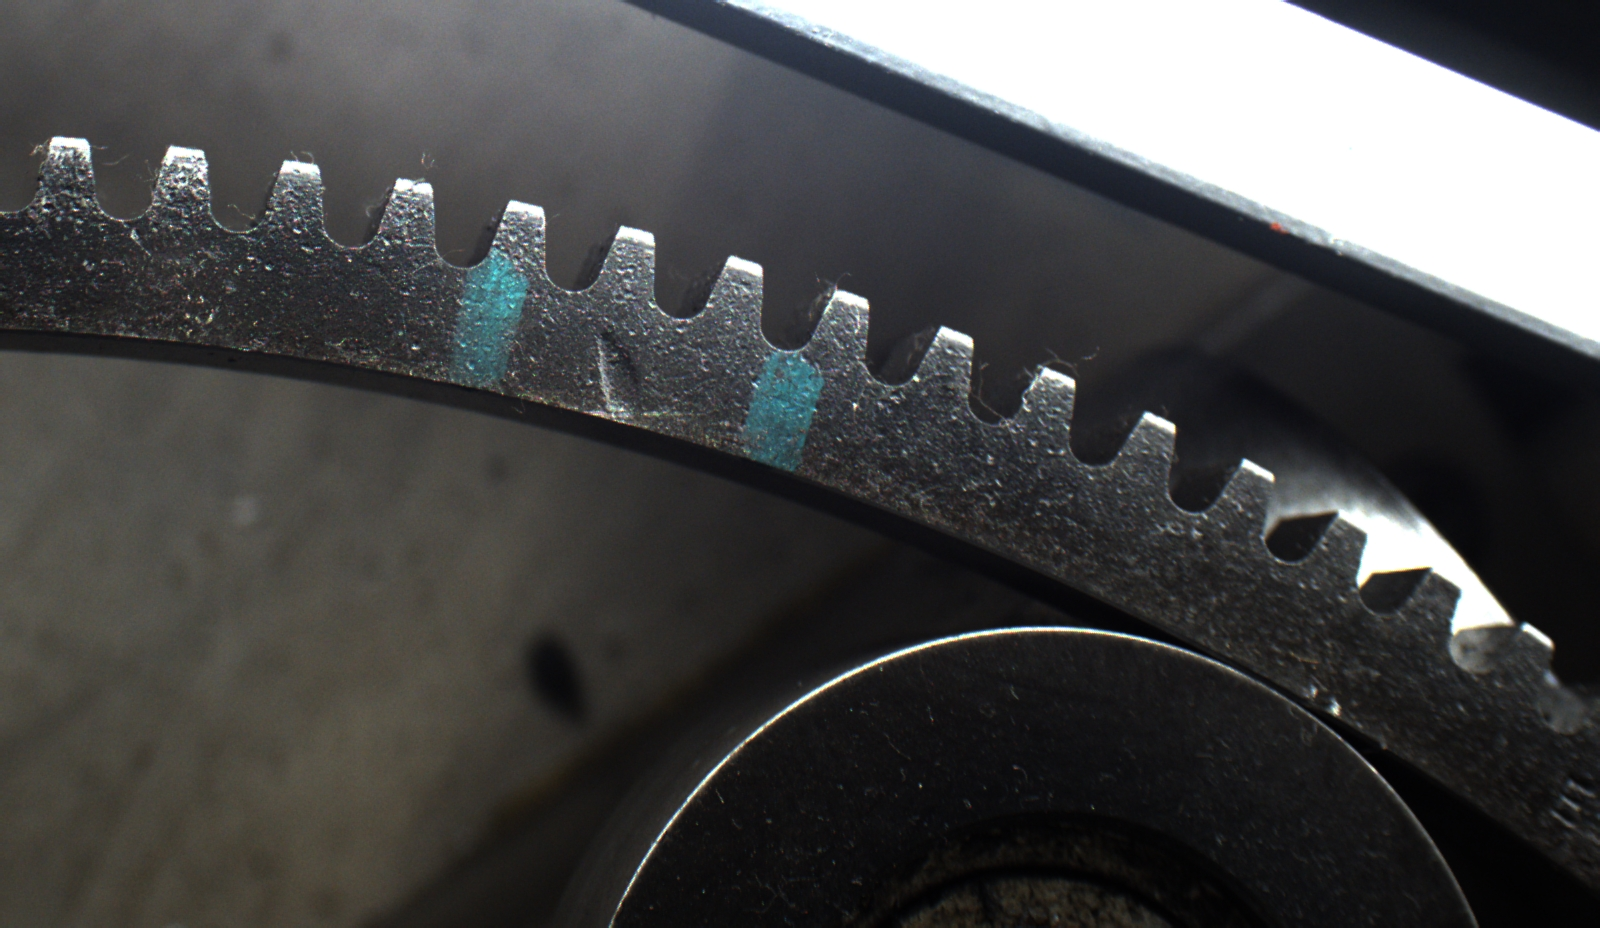abs: (733, 320, 1010, 544)
test: (371, 355, 668, 582)
